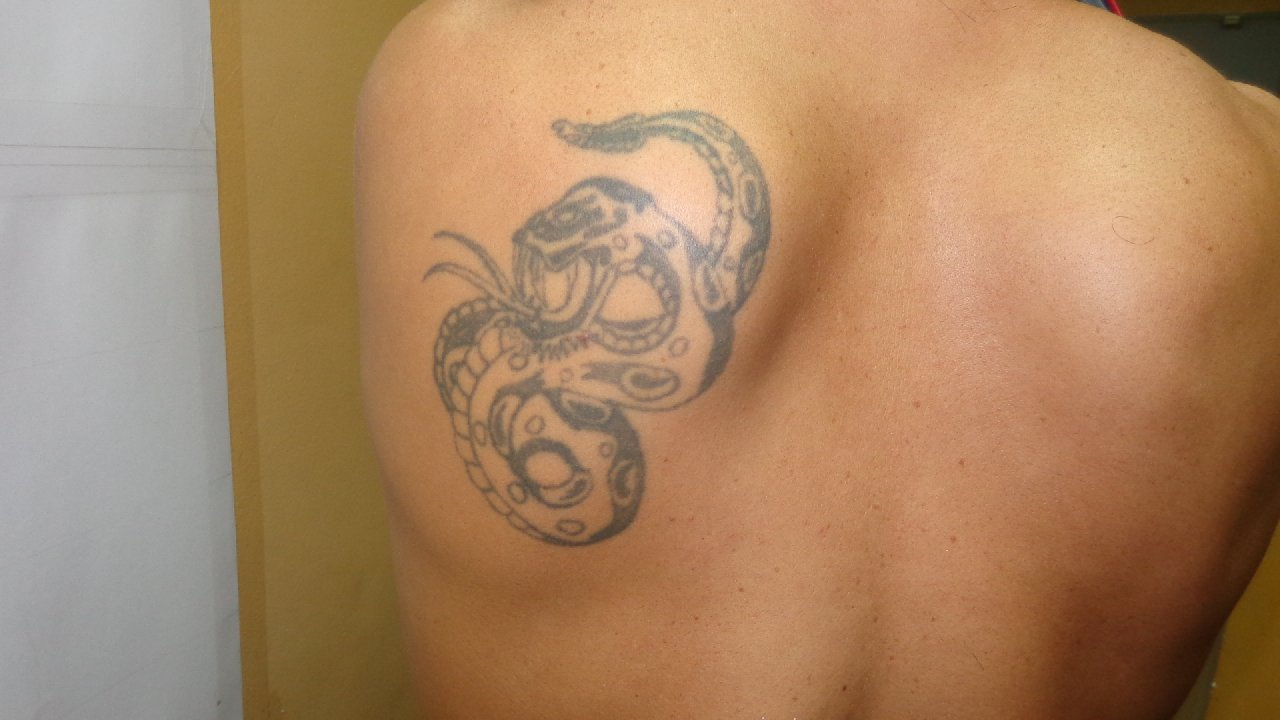tatu7_zmeya: (396, 66, 853, 623)
